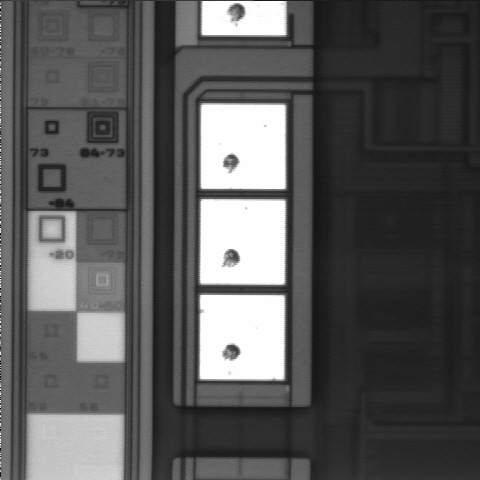pad: (200, 199, 285, 285), (200, 295, 285, 380), (201, 104, 285, 189)
